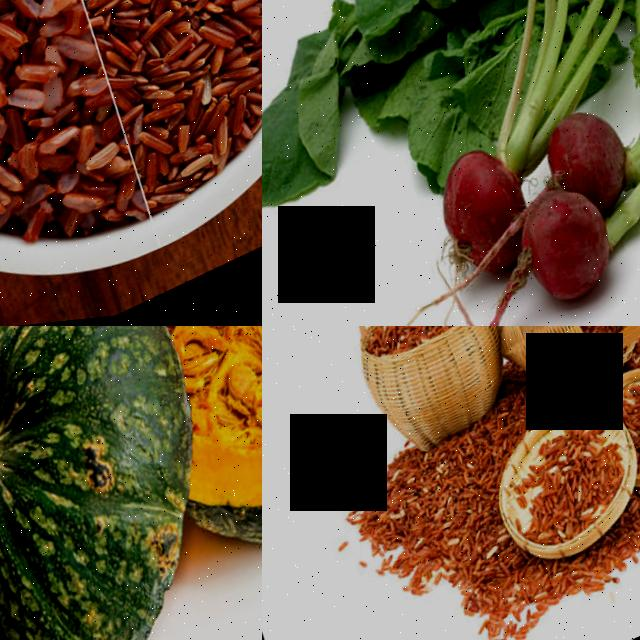pumpkin: (0, 326, 262, 640), (89, 326, 262, 580)
radishes: (374, 0, 640, 326)
red rice: (0, 0, 262, 304), (349, 429, 528, 629), (502, 415, 640, 566), (363, 326, 485, 371), (609, 362, 640, 497)
